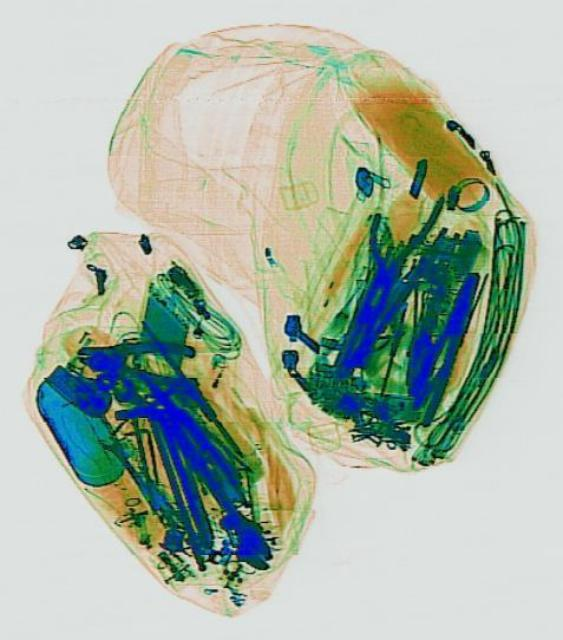Pliers: (399, 264, 486, 428), (350, 176, 445, 300), (74, 332, 197, 390)
Wrench: (174, 440, 279, 580), (107, 371, 177, 432)
